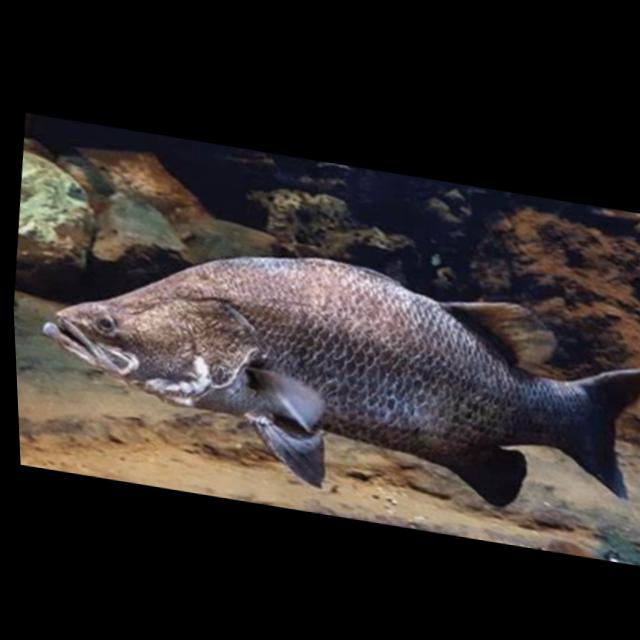Seabass: (23, 212, 640, 539)
